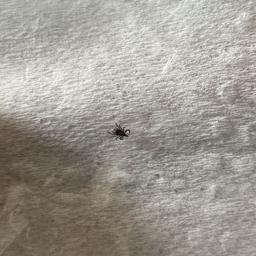Ixodes scapularis: (109, 125, 131, 142)
